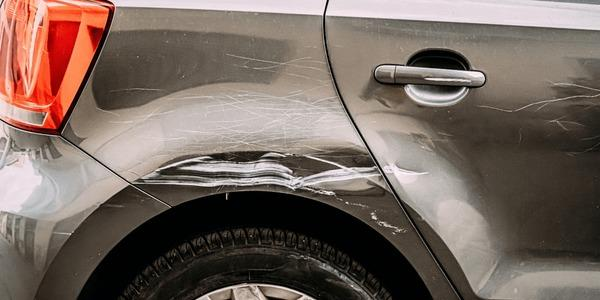scratch: (46, 47, 433, 248), (464, 72, 599, 168)
